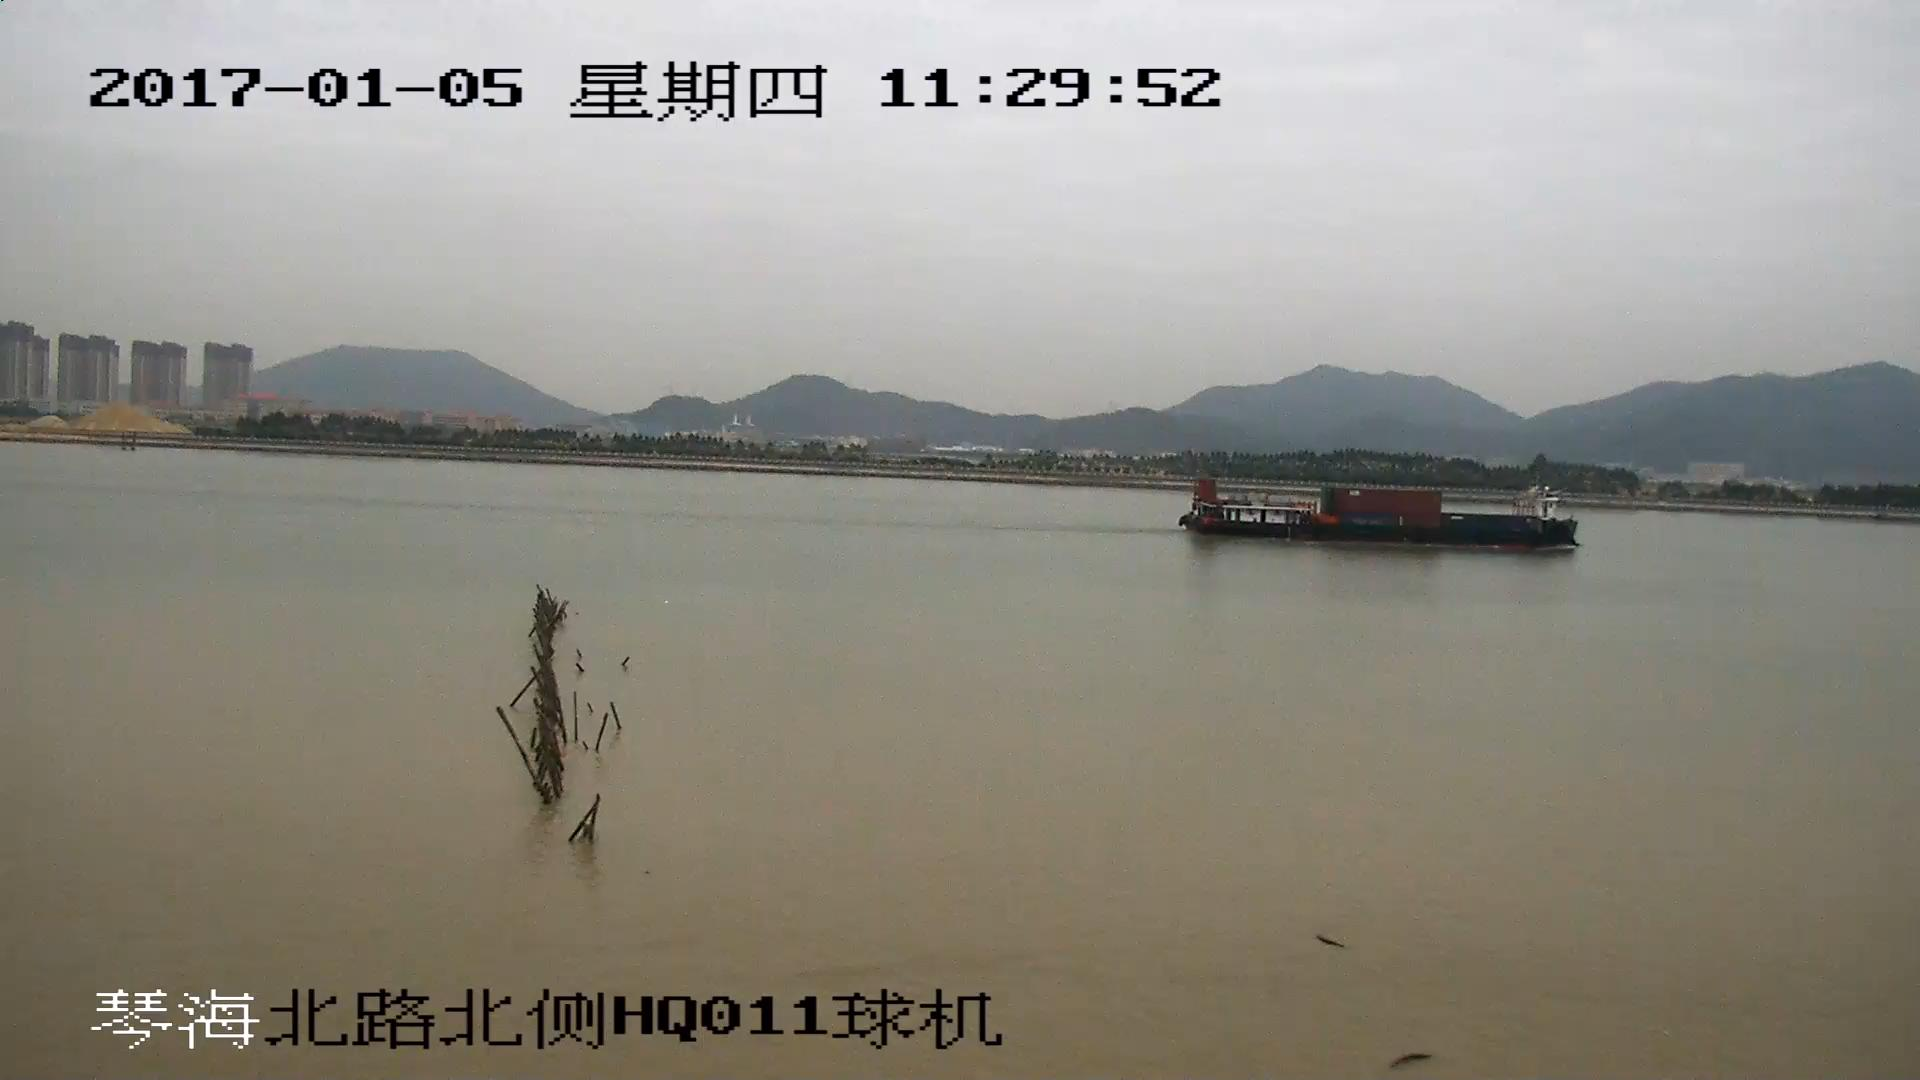container ship: (1174, 477, 1578, 548)
